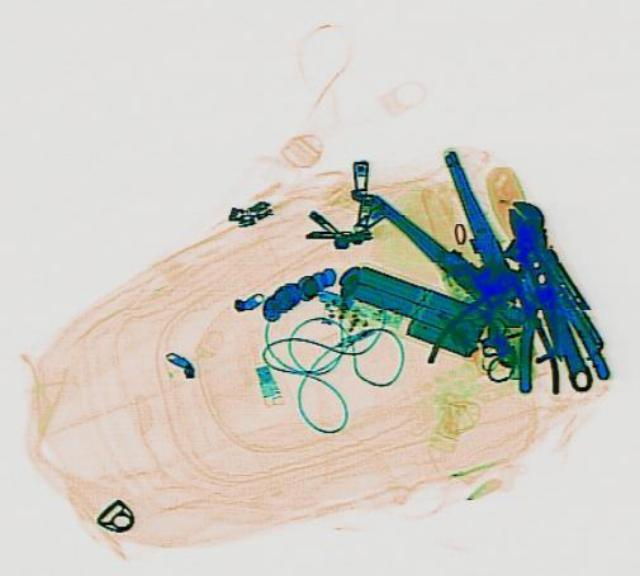Pliers: (358, 142, 554, 320), (419, 242, 587, 392)
Wrench: (498, 194, 600, 394)
